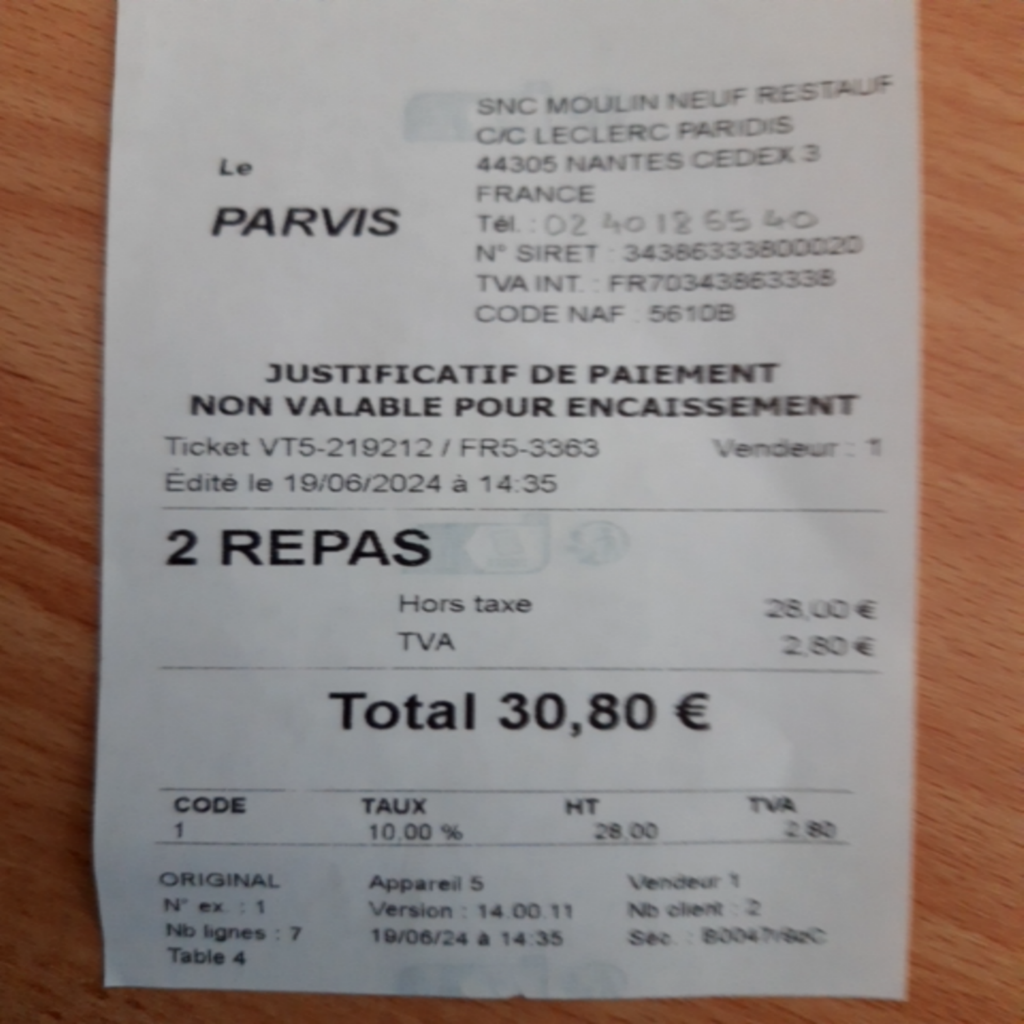recipt: (90, 4, 925, 1001)
